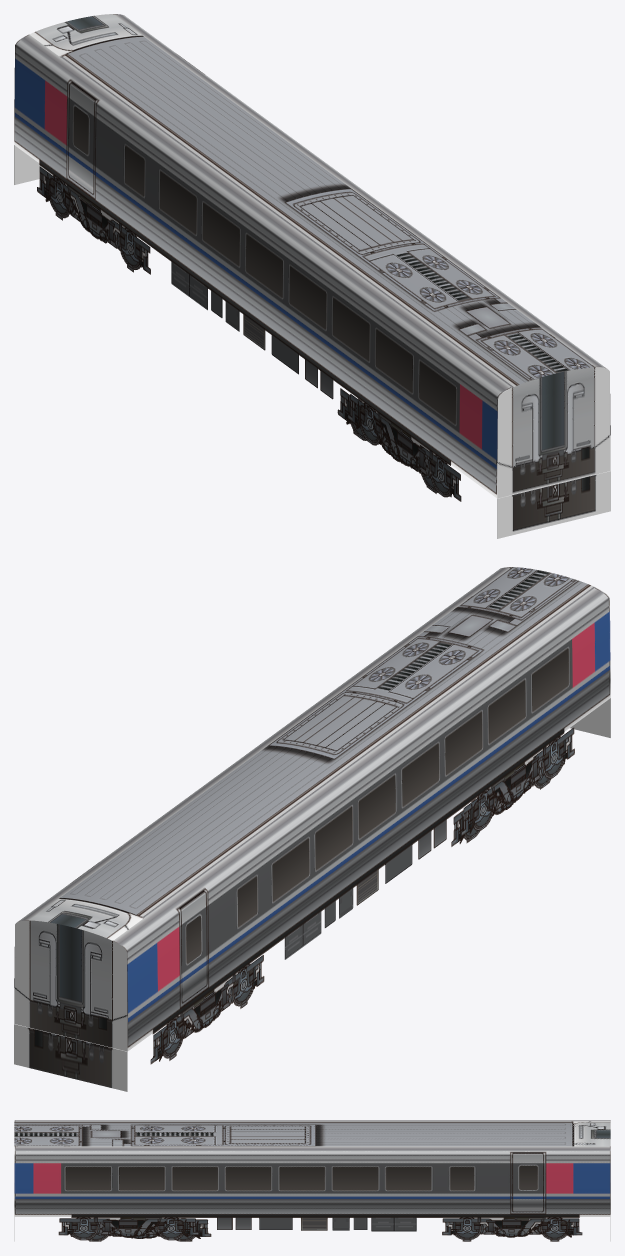
File: car3.glb
The picture shows the model from 3 angles, top to bottom: view 1: azimuth 30°, elevation 25°; view 2: azimuth 150°, elevation 25°; view 3: azimuth 270°, elevation 25°; orthographic projection. The views are drawn at different scales.
Parts seen in each view (by area): view 1: tizukyu-hot7000-car3; view 2: tizukyu-hot7000-car3; view 3: tizukyu-hot7000-car3.
Boxes of the visible parts, x1,y1,x2,y2 form: tizukyu-hot7000-car3: [14, 14, 610, 538]; tizukyu-hot7000-car3: [14, 567, 610, 1091]; tizukyu-hot7000-car3: [14, 1120, 610, 1241].
Size of the model in its own units: 2.84 by 3.61 by 20.96.
8 materials, 7 textured.
